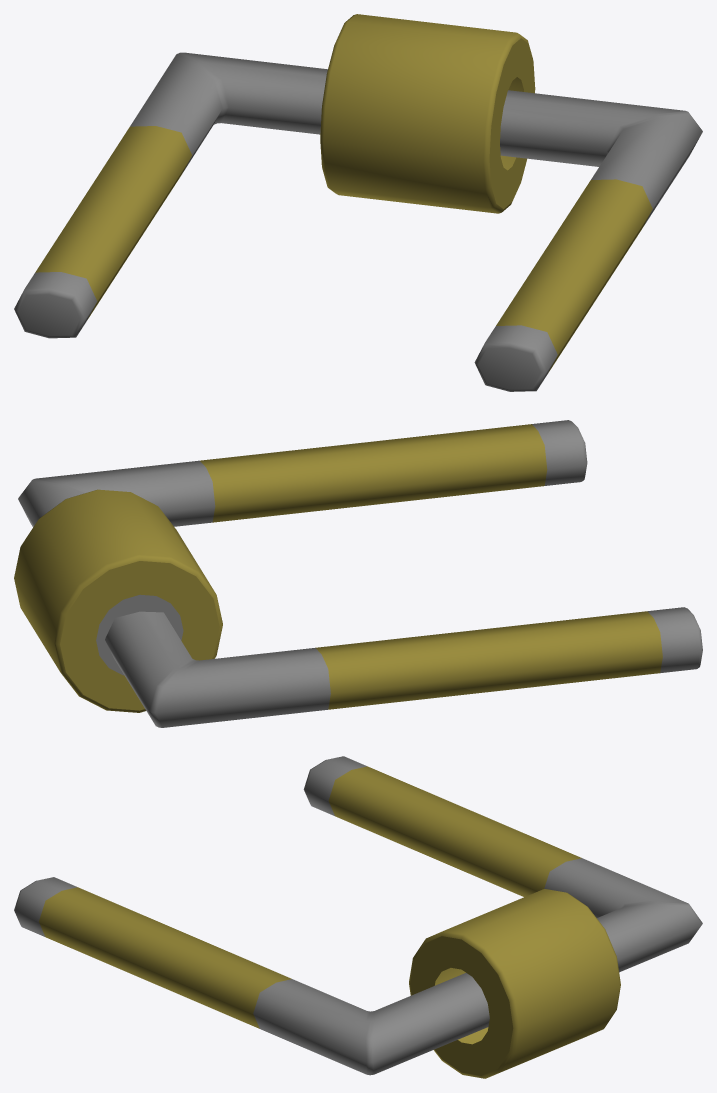
3 views of the same model, one above another, from view 1: azimuth 30°, elevation 25°; view 2: azimuth 150°, elevation 25°; view 3: azimuth 270°, elevation 25° (orthographic). The views are drawn at different scales.
Visible parts, largest first — view 1: part4:handle (×2); view 2: part4:handle (×2); view 3: part4:handle (×2).
Boxes of the visible parts, <box> form: part4:handle (×2): <box>14,14,702,391</box>; part4:handle (×2): <box>14,420,702,727</box>; part4:handle (×2): <box>14,756,702,1078</box>.
Size of the model in its own units: 0.2484 by 0.056 by 0.2483.
